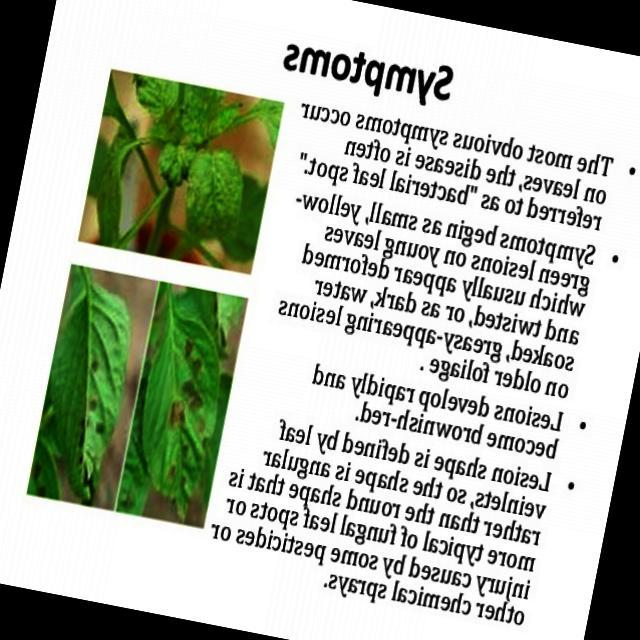Tomato bacterial spot leaf: (33, 268, 147, 498), (125, 288, 236, 514)
Tomato spider mites leaf: (170, 147, 251, 257)
